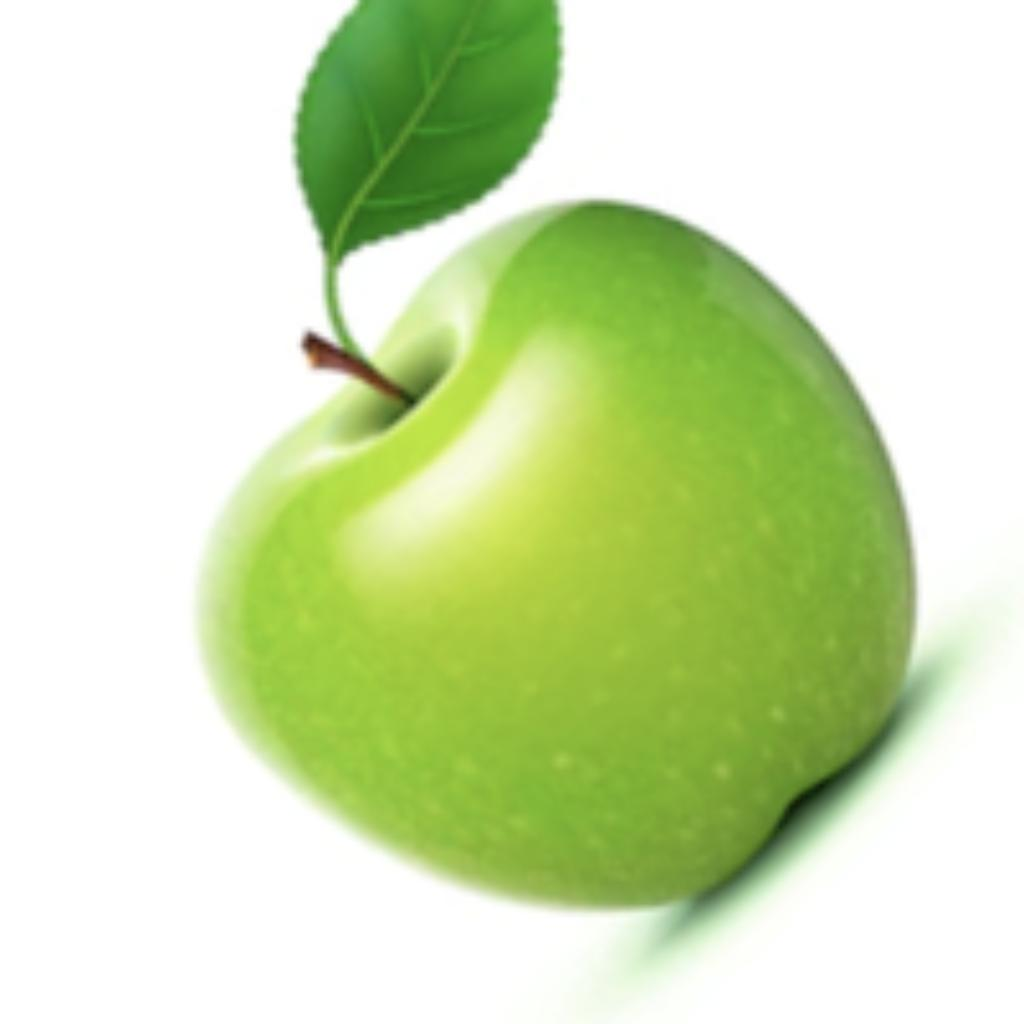apple: (184, 189, 978, 1014)
